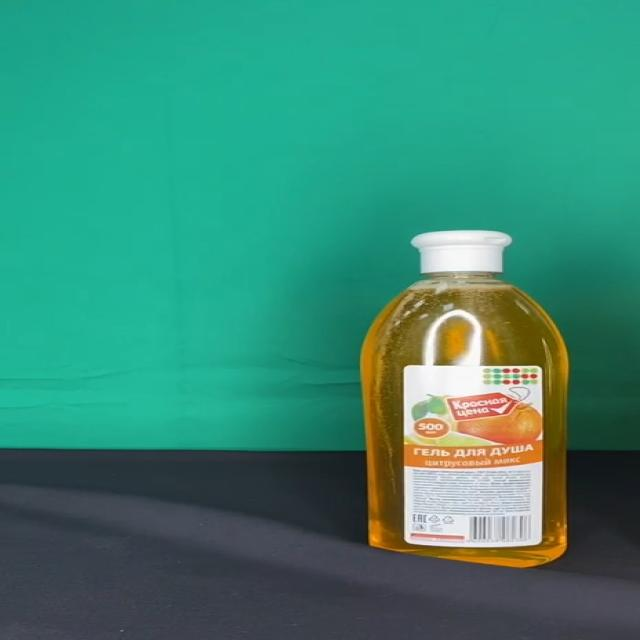Bottle: (361, 230, 571, 569)
Cap: (410, 230, 512, 274)
